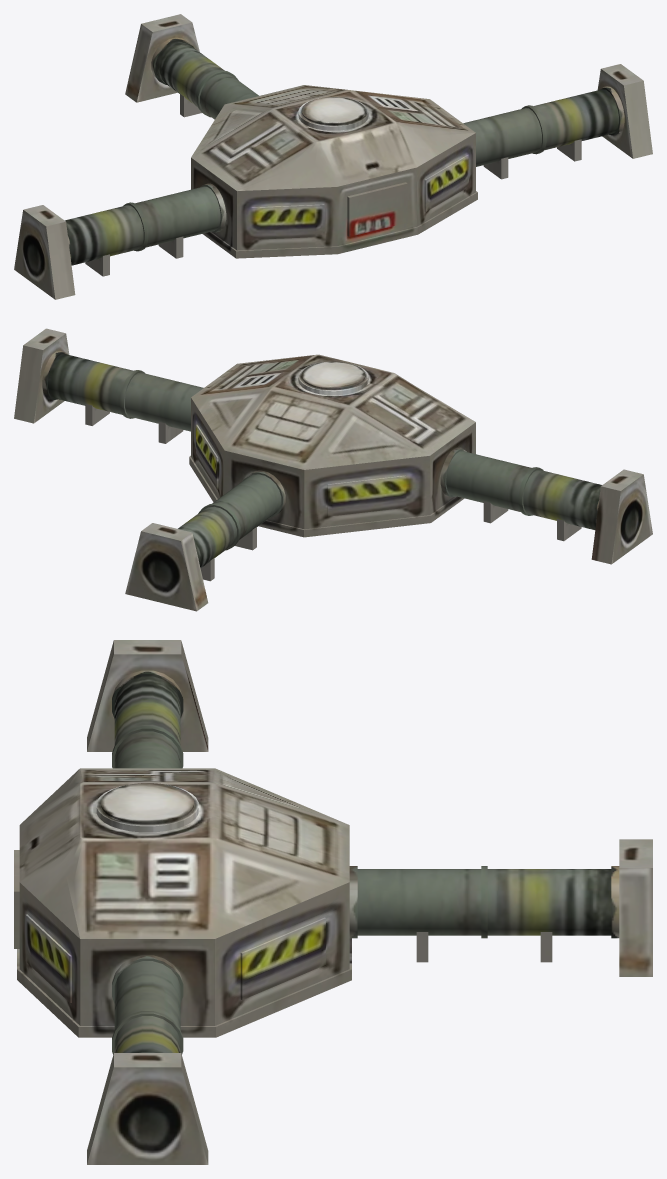
File: threewaypipe_cad.glb
3 views of the same model, one above another, from view 1: azimuth 30°, elevation 25°; view 2: azimuth 150°, elevation 25°; view 3: azimuth 270°, elevation 25° (orthographic). The views are drawn at different scales.
Visible parts, largest first — view 1: Threeway; view 2: Threeway; view 3: Threeway.
Boxes of the visible parts, box(x1,y1,x2,y2) form: Threeway: box(14, 14, 652, 299); Threeway: box(14, 328, 652, 611); Threeway: box(14, 640, 652, 1164).
Size of the model in its own units: 25.56 by 4.15 by 16.16.
1 material, 1 textured.
